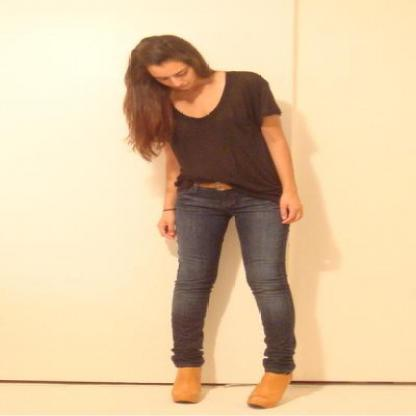pants: (167, 184, 296, 374)
shirt: (168, 71, 282, 203)
shoe: (162, 367, 291, 408)
